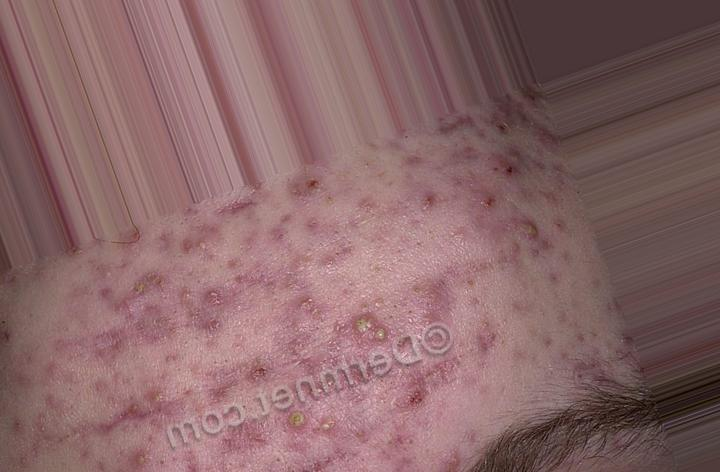Acne: (104, 273, 495, 355)
